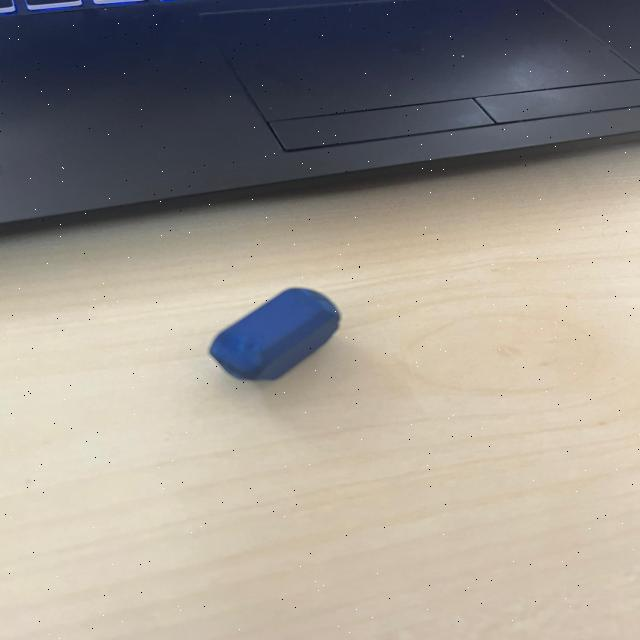eraser: (210, 281, 337, 385)
